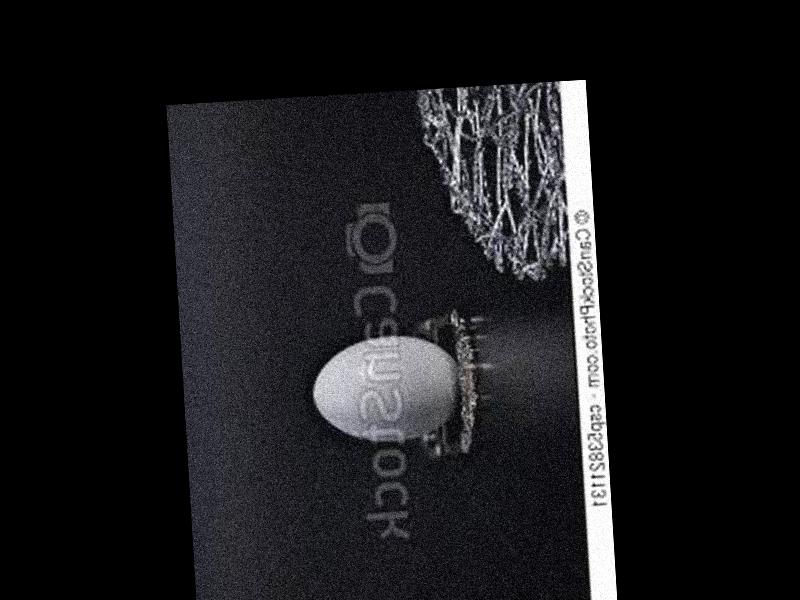Eggs: (310, 331, 463, 446)
